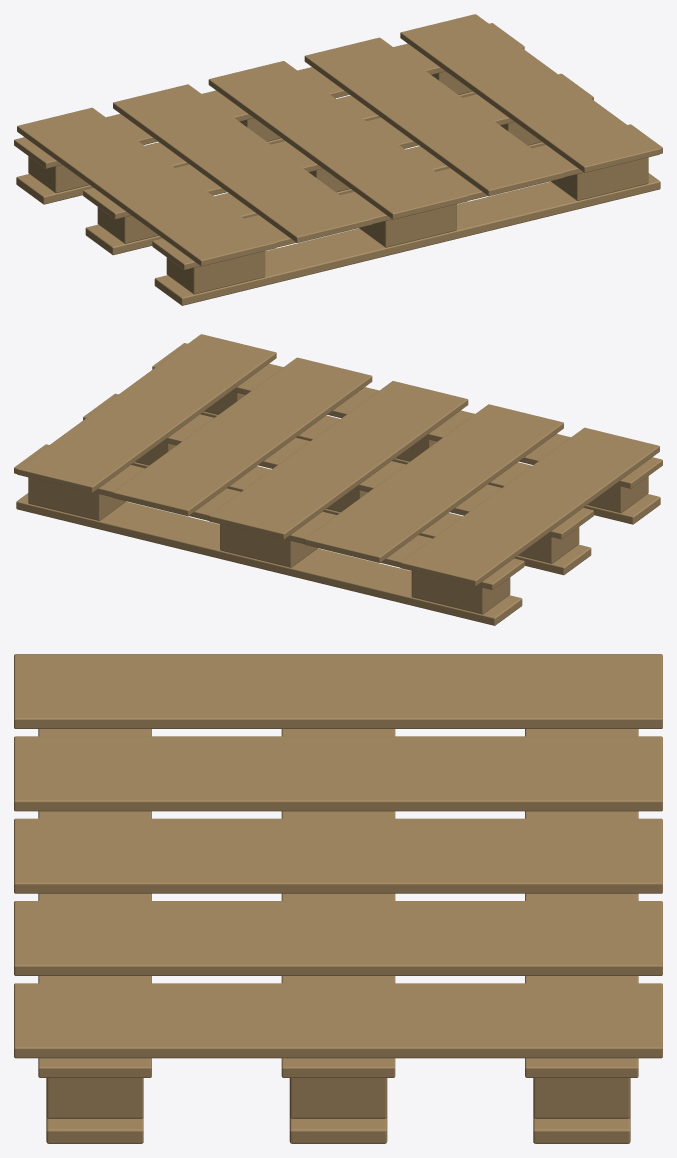
The model's file is paper.glb.
3 views of the same model, one above another, from view 1: azimuth 30°, elevation 25°; view 2: azimuth 150°, elevation 25°; view 3: azimuth 270°, elevation 25° (orthographic). The views are drawn at different scales.
Parts seen in each view (by area): view 1: PalletDeck_2, PalletDeck_4, PalletDeck_1, PalletDeck_0, PalletDeck_3, BottomRunner_0.3, PalletCross_0.3, PalletCross_0, PalletCross_-0.3, PalletBlock_-0.48_0.3, PalletBlock_0.48_0.3, PalletBlock_0_0.3 (+4 smaller); view 2: PalletDeck_2, PalletDeck_4, PalletDeck_1, PalletDeck_0, PalletDeck_3, BottomRunner_-0.3, PalletCross_-0.3, PalletCross_0, PalletCross_0.3, PalletBlock_-0.48_-0.3, PalletBlock_0.48_-0.3, PalletBlock_0_-0.3 (+4 smaller); view 3: PalletDeck_2, PalletDeck_4, PalletDeck_1, PalletDeck_0, PalletDeck_3, PalletCross_0, PalletCross_-0.3, PalletCross_0.3, PalletBlock_0.48_0, PalletBlock_0.48_-0.3, PalletBlock_0.48_0.3, BottomRunner_0 (+2 smaller).
Boxes of the visible parts, x1,y1,x2,y2 form: PalletDeck_2: (208,61,468,219); PalletDeck_4: (400,14,659,172); PalletDeck_1: (113,84,372,242); PalletDeck_0: (17,107,276,266); PalletDeck_3: (304,37,563,196); BottomRunner_0.3: (154,173,660,305); PalletCross_0.3: (152,124,662,269); PalletCross_0: (83,73,593,219); PalletCross_-0.3: (14,23,524,168); PalletBlock_-0.48_0.3: (166,251,265,294); PalletBlock_0.48_0.3: (551,157,648,200); PalletBlock_0_0.3: (359,204,456,247); PalletDeck_2: (208,381,468,539); PalletDeck_4: (17,334,276,492); PalletDeck_1: (304,404,563,562); PalletDeck_0: (400,427,659,586); PalletDeck_3: (113,357,372,516); BottomRunner_-0.3: (16,493,522,625); PalletCross_-0.3: (14,444,524,589); PalletCross_0: (83,393,593,539); PalletCross_0.3: (152,343,662,488); PalletBlock_-0.48_-0.3: (411,571,510,614); PalletBlock_0.48_-0.3: (28,477,125,520); PalletBlock_0_-0.3: (220,524,317,567); PalletDeck_2: (14,818,662,893); PalletDeck_4: (14,983,662,1058); PalletDeck_1: (14,736,662,811); PalletDeck_0: (14,654,662,728); PalletDeck_3: (14,901,662,975); PalletCross_0: (281,729,395,1077); PalletCross_-0.3: (525,729,638,1077); PalletCross_0.3: (38,729,151,1077); PalletBlock_0.48_0: (289,1078,387,1118); PalletBlock_0.48_-0.3: (533,1078,630,1118); PalletBlock_0.48_0.3: (46,1078,143,1118); BottomRunner_0: (289,1116,387,1143).
Size of what is drawn, in the model's own units: 1.2 by 0.12 by 0.8.
